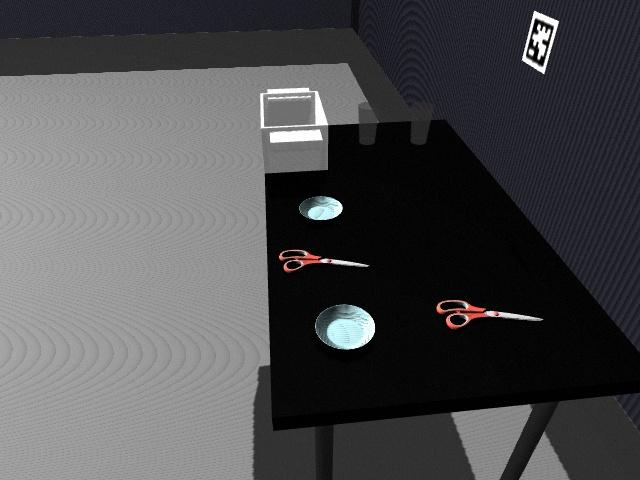cup: (363, 110, 412, 148), (408, 102, 433, 145), (358, 101, 377, 146)
plate: (314, 304, 376, 351), (297, 195, 344, 222)
scissors: (435, 298, 544, 331), (279, 247, 368, 273)
